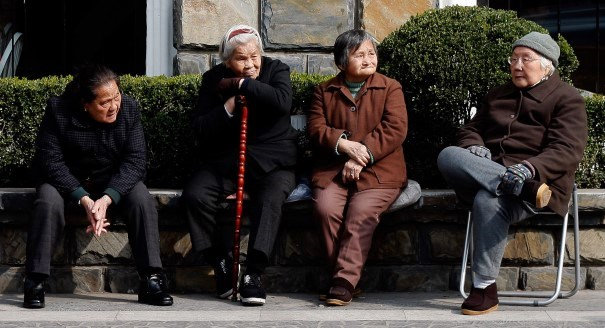Person: (436, 18, 590, 321), (19, 60, 186, 314), (170, 18, 304, 309), (291, 30, 418, 313)
